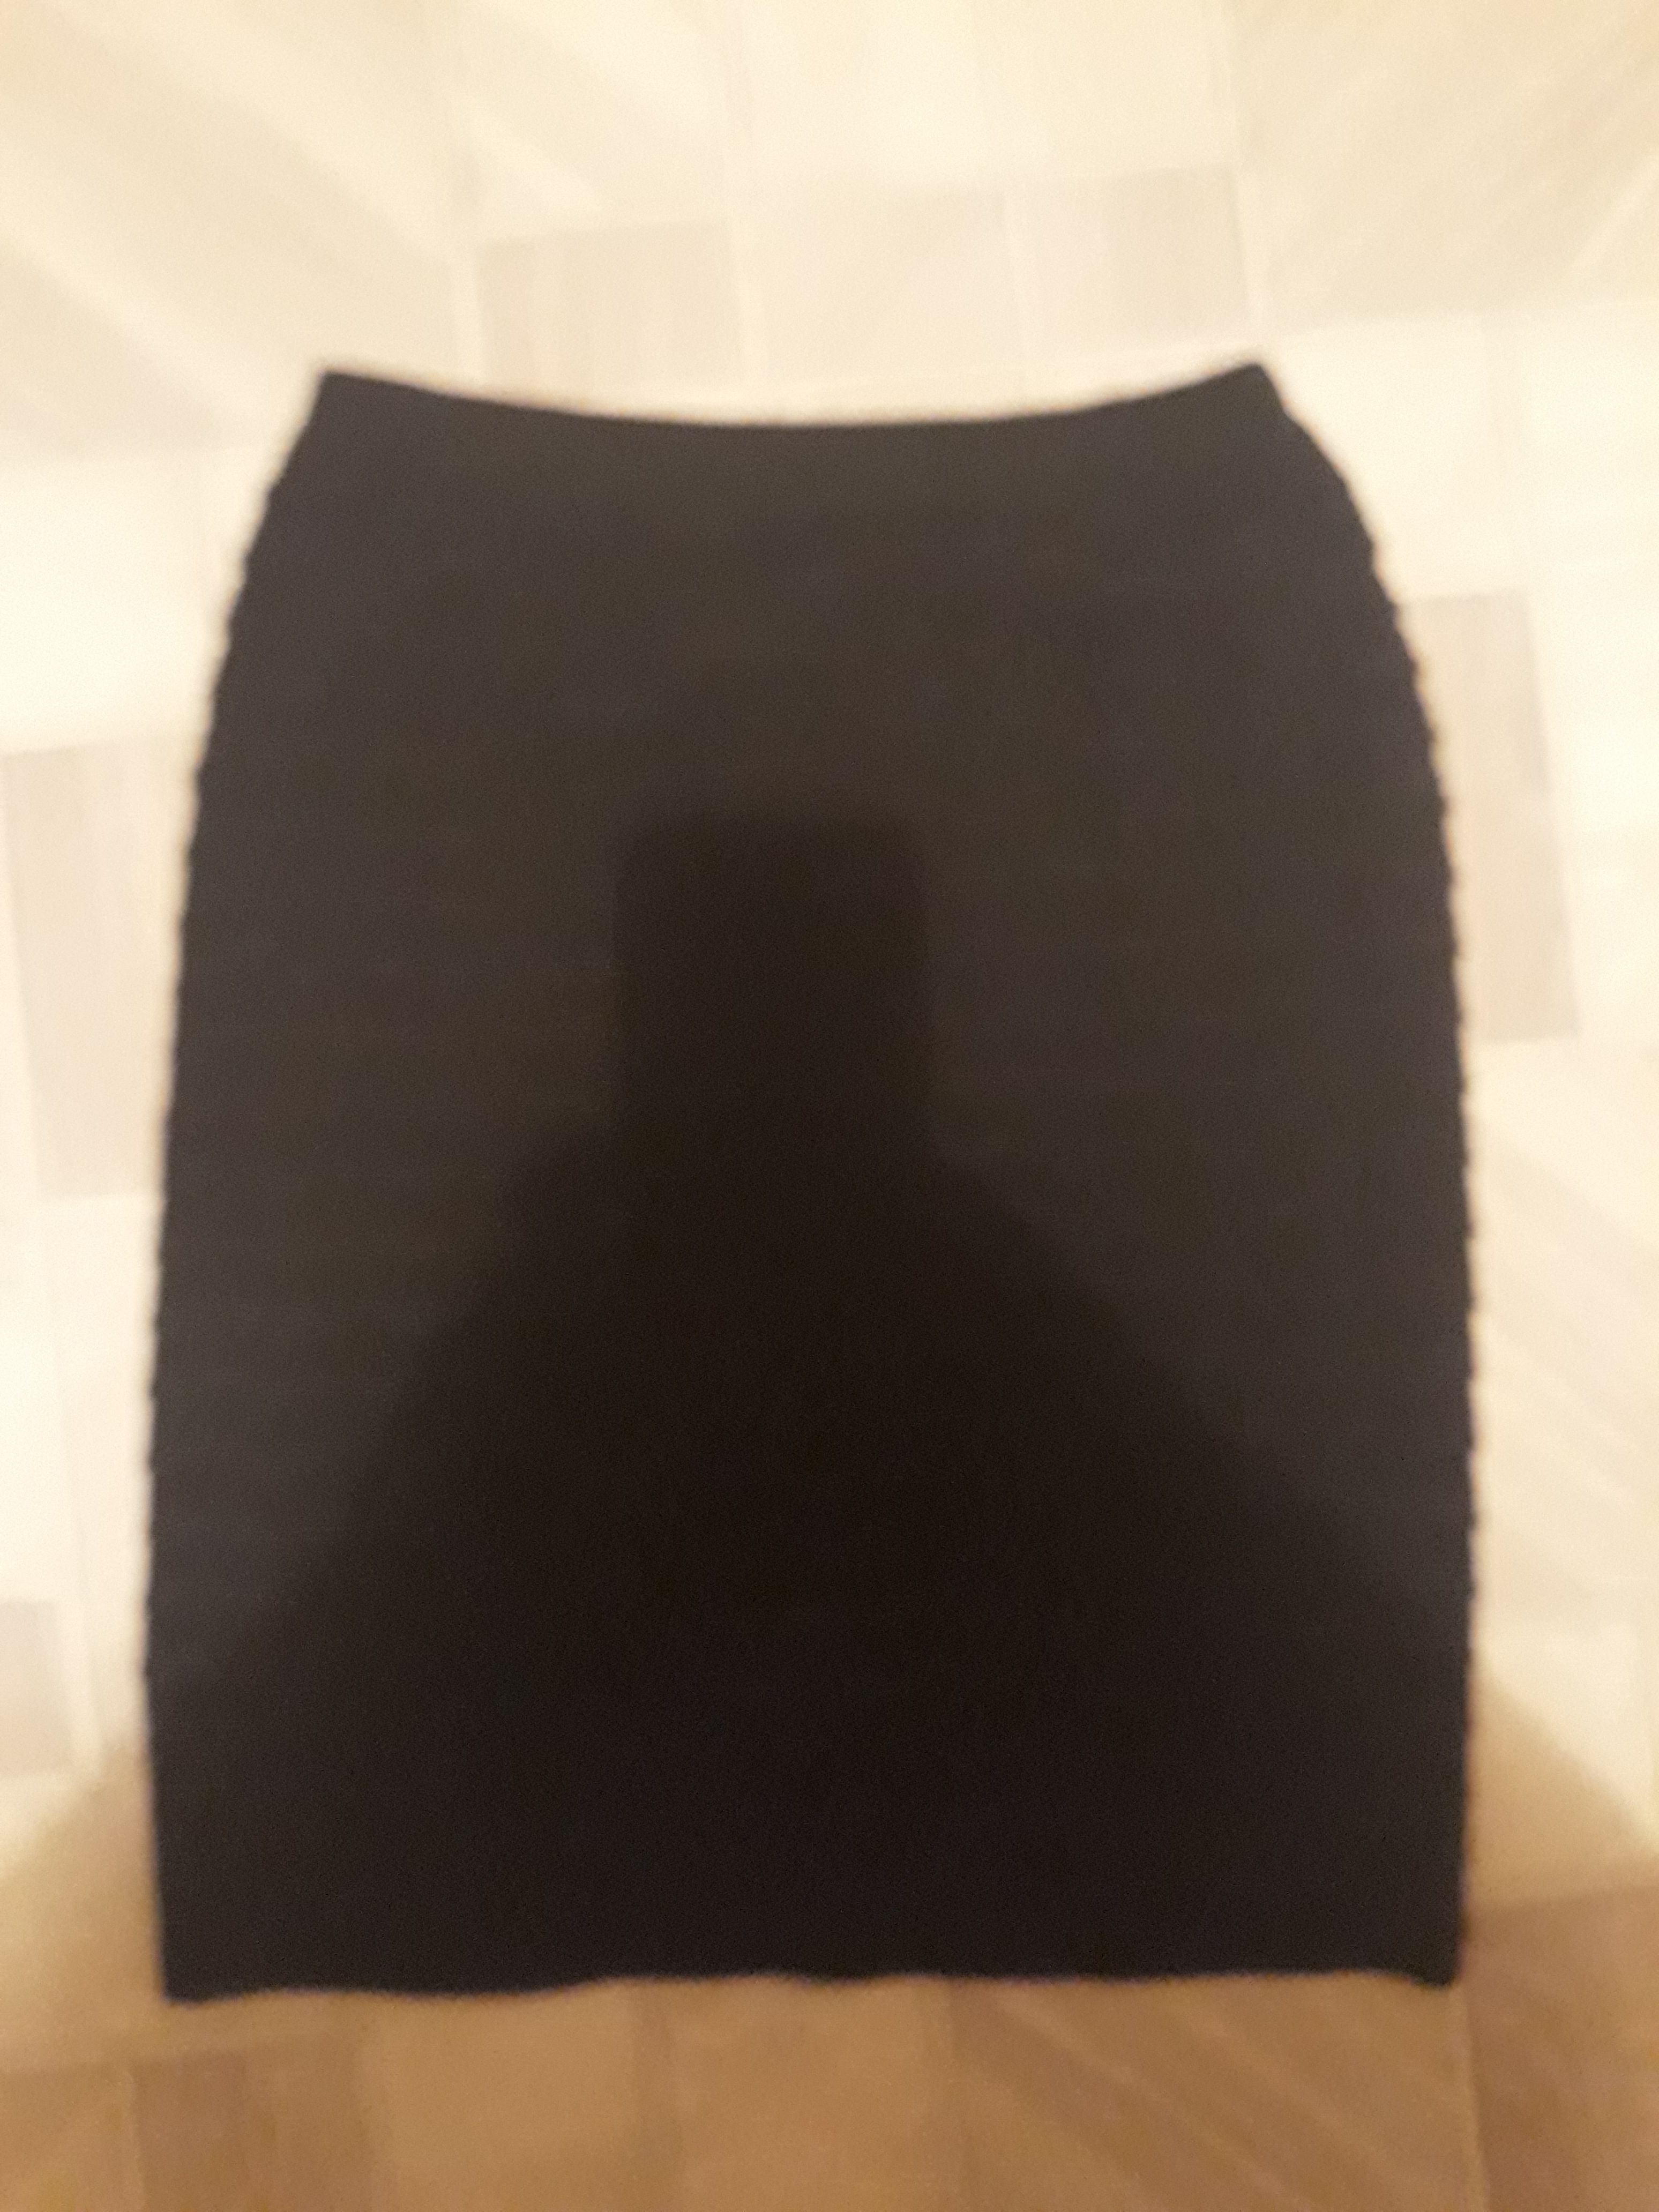clothes: (148, 359, 1511, 2013)
